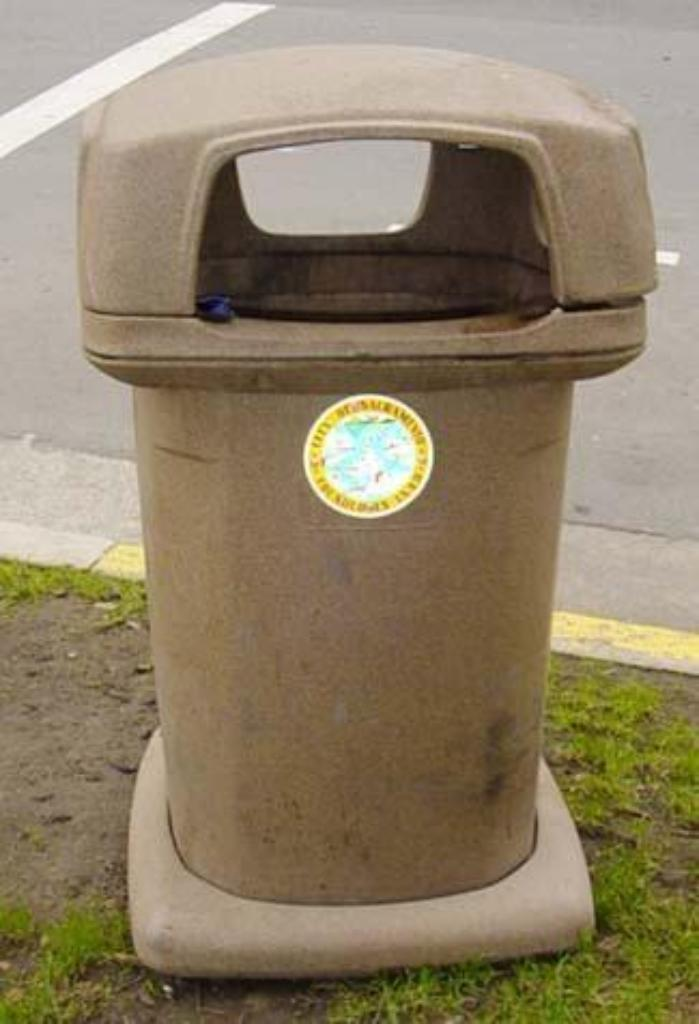dustbin: (77, 41, 653, 969)
